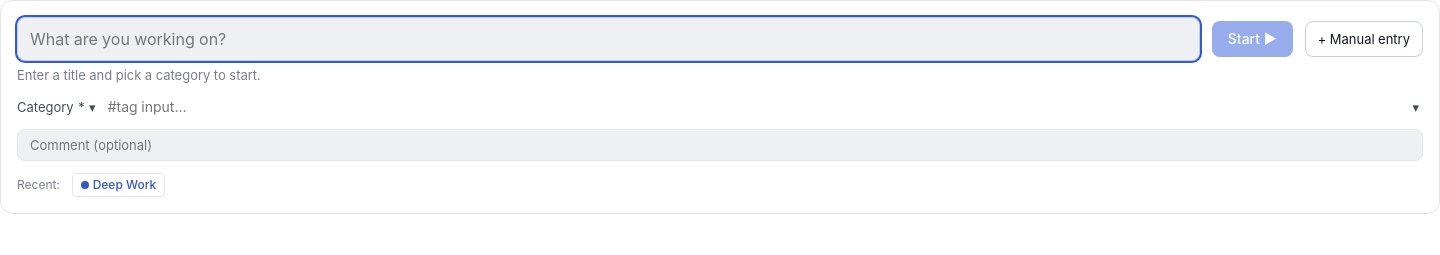
TimerWidget › clears the tag chips and TagEditor's draft text after a successful manual save
Type "Deep focus block" into the field with placeholder "What are you working on?" at [608, 39], box [17,17,1200,61]
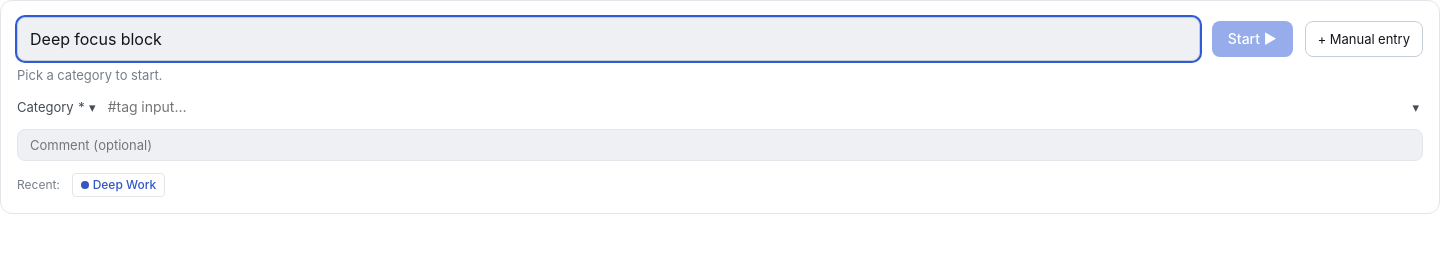
Click the button "Deep Work" at [118, 185], box [72,173,165,197]
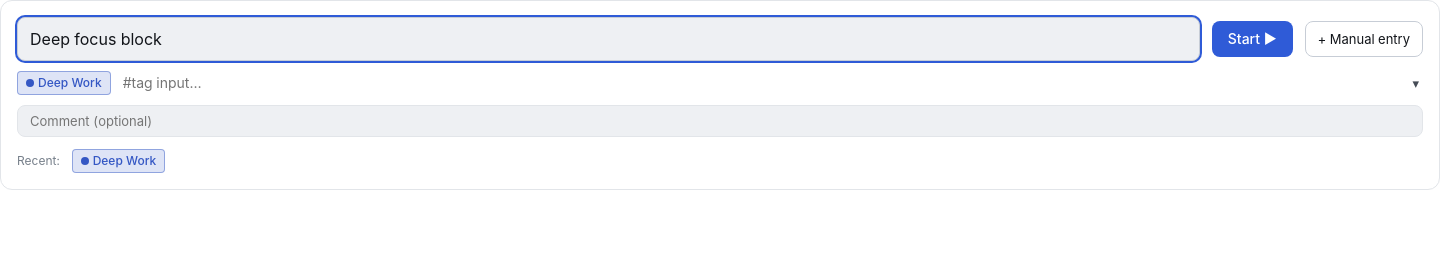
Click the button "+ Manual entry" at [1364, 39], box [1305,21,1423,57]
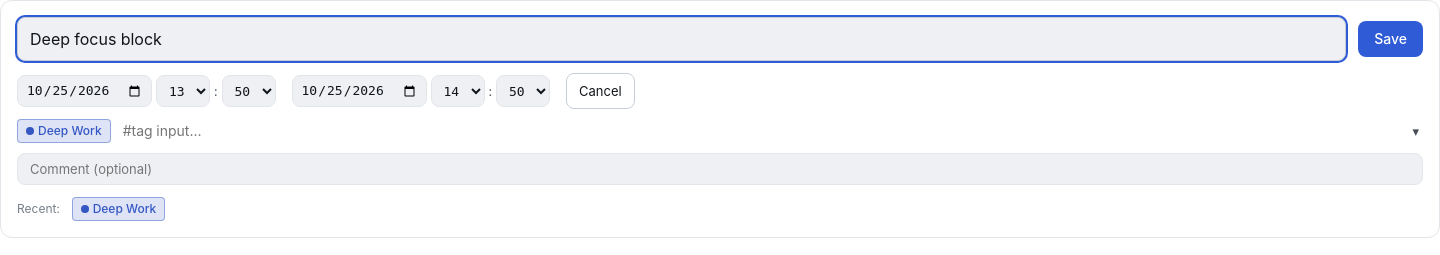
Type "bug" into the dropdown named "Add tag" at [764, 131], box [123,117,1404,145]
Press Enter in the dropdown named "Add tag", box [123,117,1404,145]
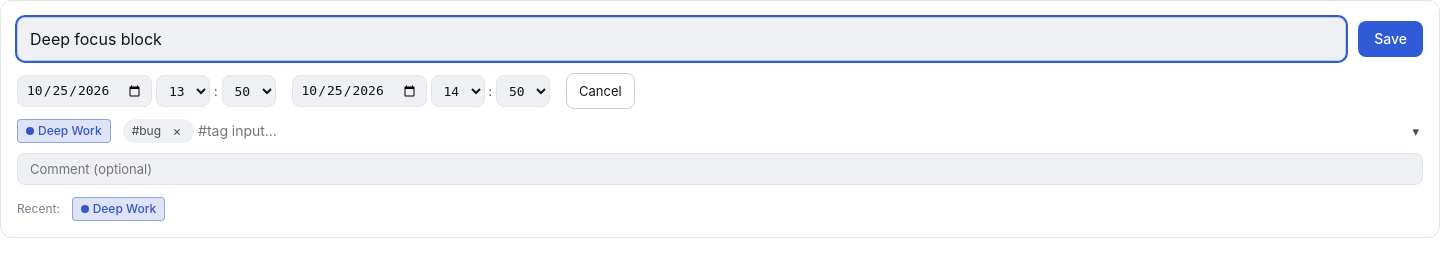
Type "urg" into the dropdown named "Add tag" at [801, 131], box [198,117,1404,145]
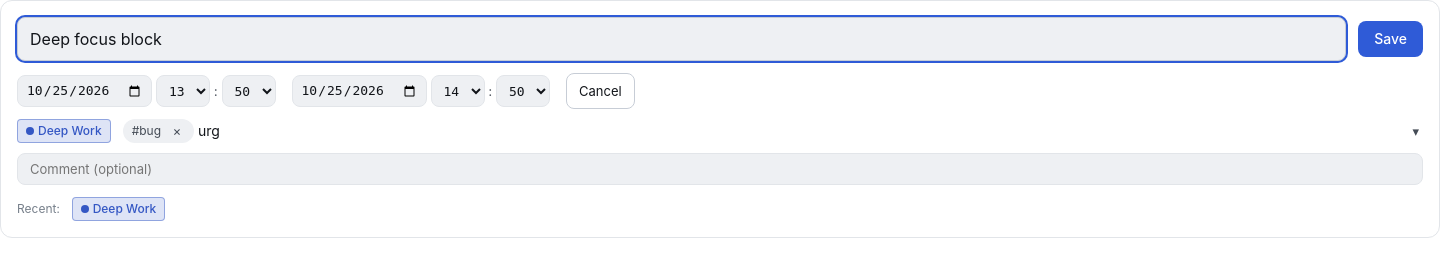
Click the button "Save" at [1391, 39], box [1358,21,1423,57]
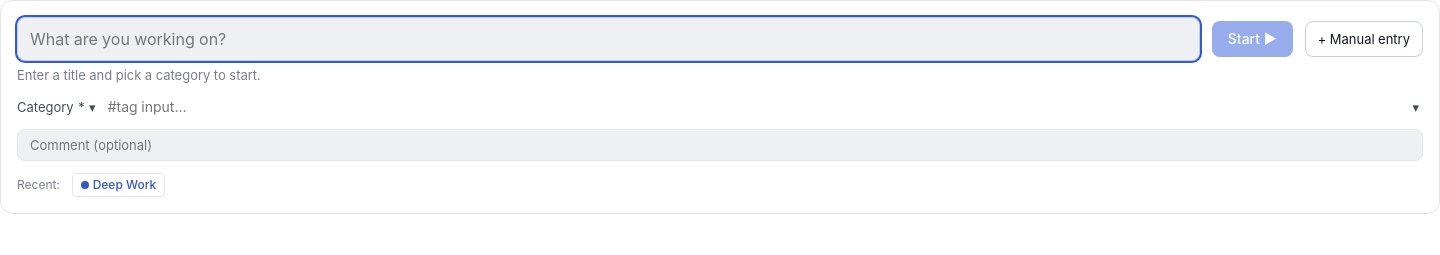
Now the text "#bug" is gone
Now the dropdown named "Add tag" is empty, box [108,93,1404,121]
